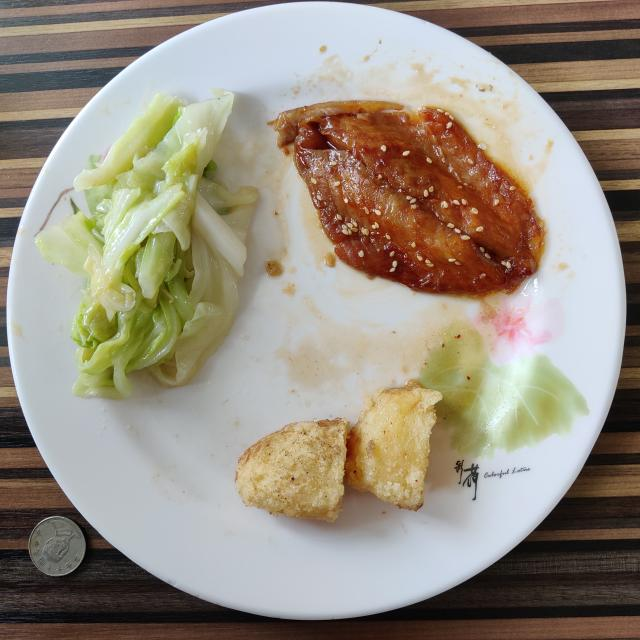Kabayaki sea bream fillet: (275, 101, 544, 296)
cabbage: (35, 91, 259, 399)
coin: (29, 516, 86, 576)
fried potato: (236, 380, 442, 521)
